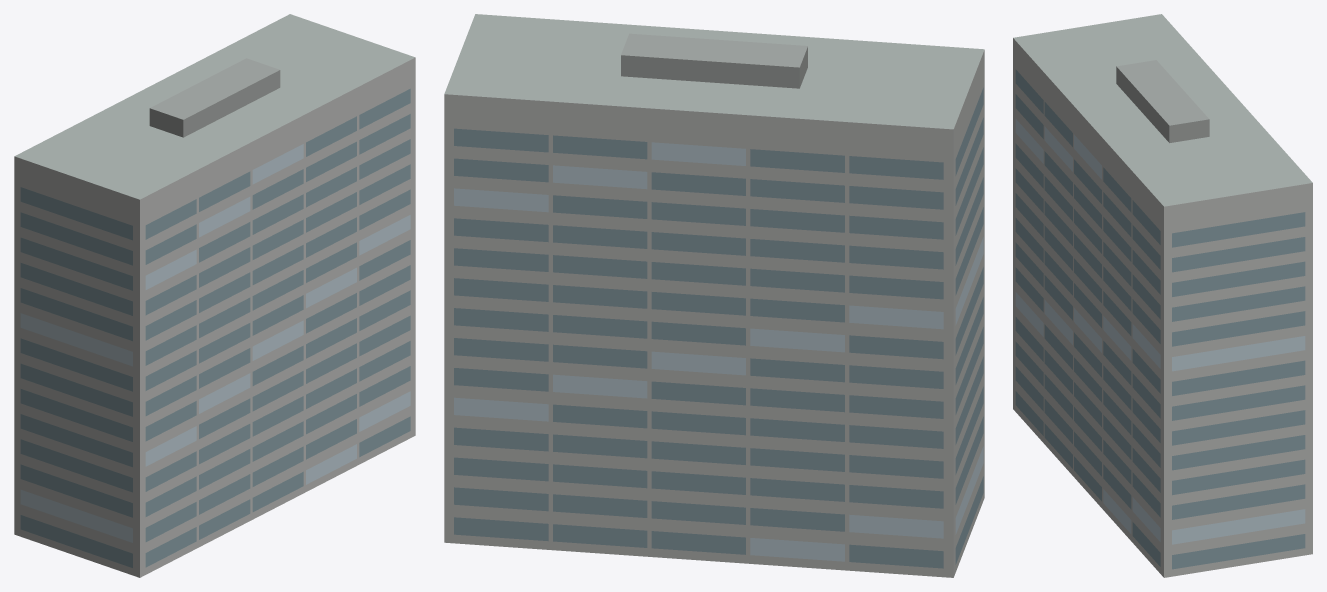
Rendered from fallback-songpa-helio-city-502.glb.
3 renders of one model, left to right at view 1: azimuth 30°, elevation 25°; view 2: azimuth 150°, elevation 25°; view 3: azimuth 270°, elevation 25°, orthographic. The views are drawn at different scales.
Visible parts, largest first — view 1: fallback-songpa-helio-city-502; view 2: fallback-songpa-helio-city-502; view 3: fallback-songpa-helio-city-502.
Part boxes in pixels (<box>): fallback-songpa-helio-city-502: <box>14,14,415,577</box>; fallback-songpa-helio-city-502: <box>444,14,984,577</box>; fallback-songpa-helio-city-502: <box>1013,14,1312,577</box>.
Size of the model in its own units: 45.71 by 43 by 30.07.
